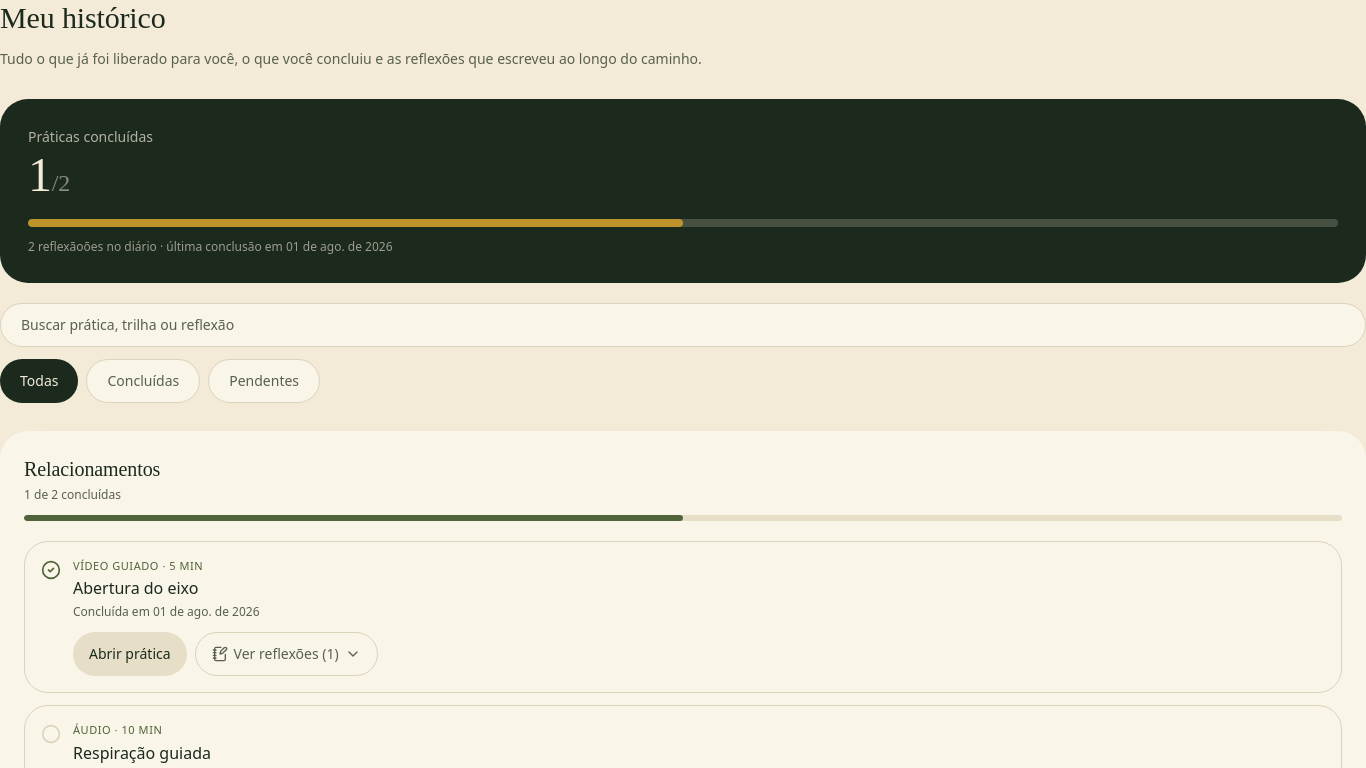
Test: histórico do cliente › filtra por estado e por busca, inclusive no texto das reflexões
This screenshot has width=1366, height=768.
Expected: the text "Abertura do eixo" is shown, top-left (73, 577), bottom-right (198, 599)
Step 1. Click the button "Concluídas" → (143, 381), box top-left (86, 359), bottom-right (200, 403)
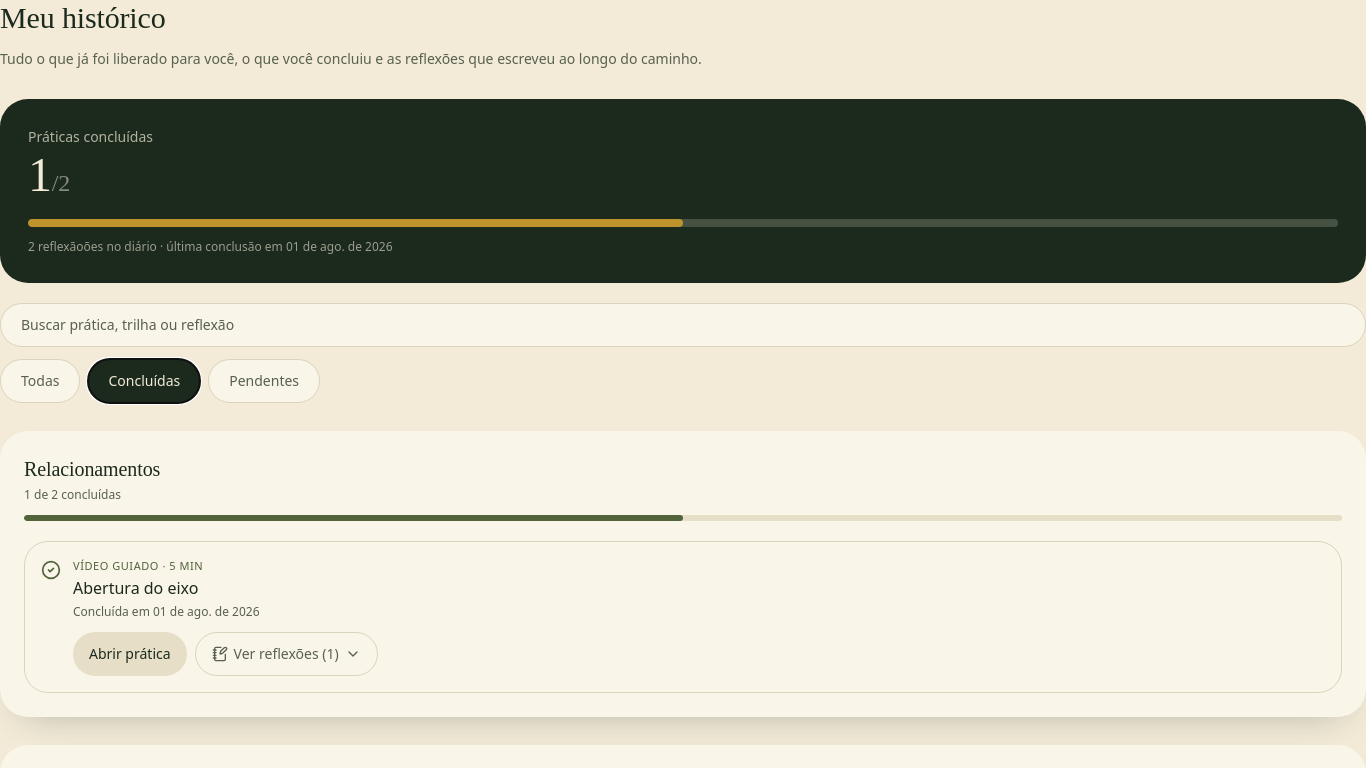
Now the text "Respiração guiada" is gone
Step 2. Click the button "Todas" → (40, 381), box top-left (0, 359), bottom-right (80, 403)
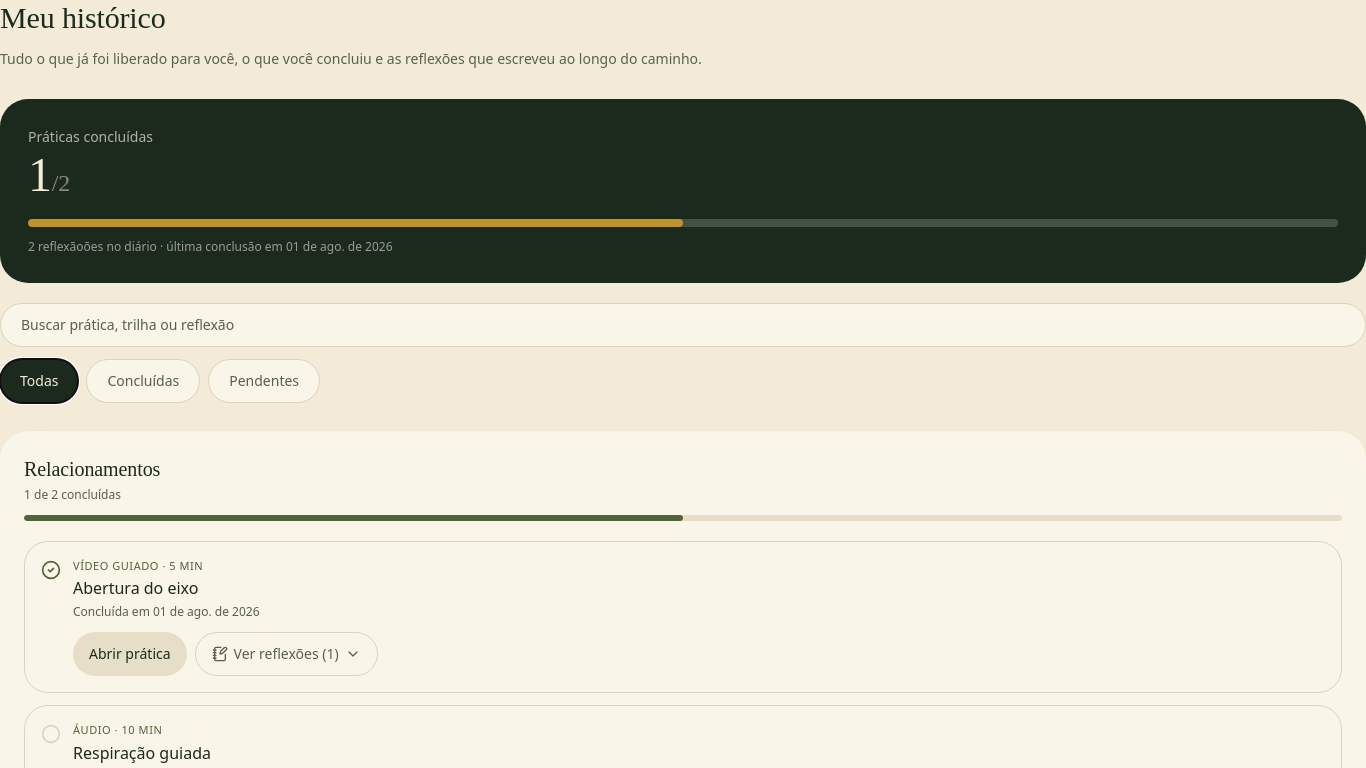
Step 3. Type "alívio" into the search field named "Buscar por prática" → (683, 325), box top-left (0, 303), bottom-right (1365, 347)
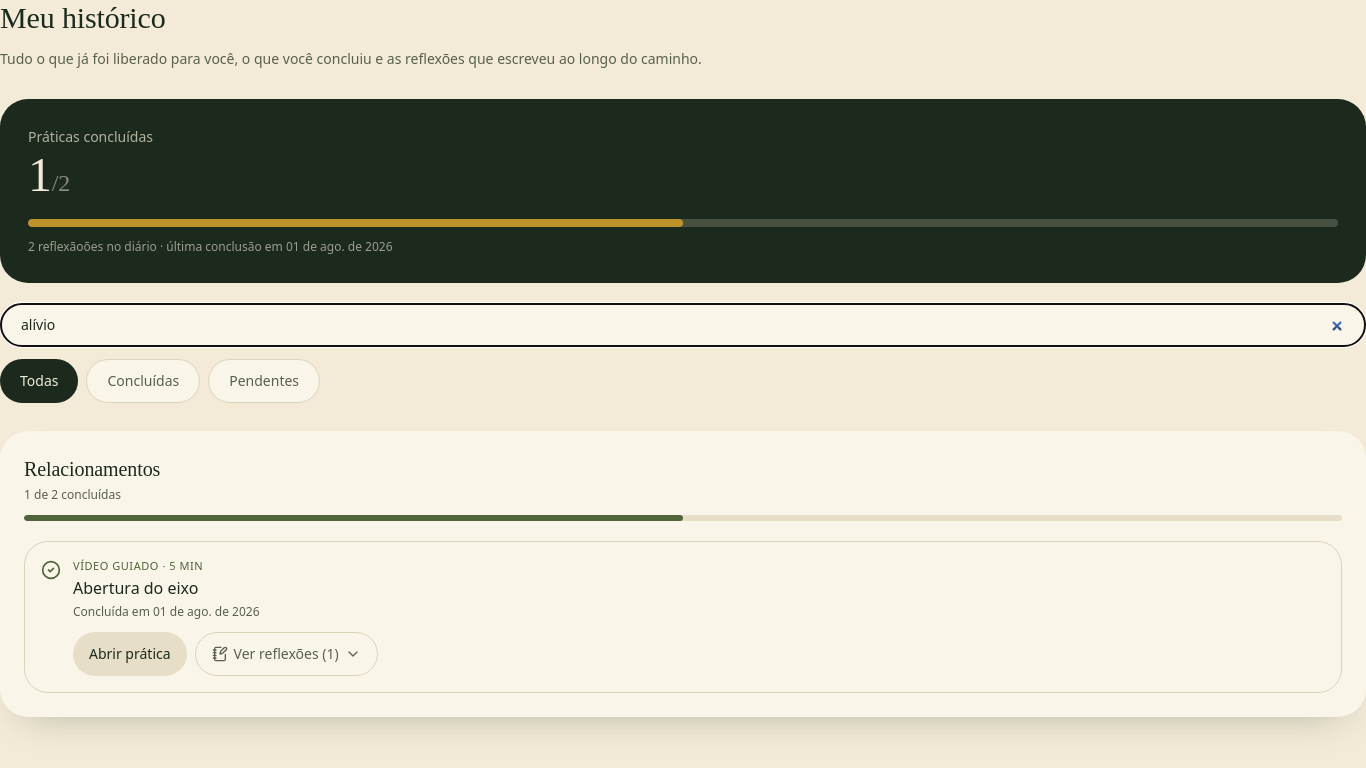
Expected: the text "Abertura do eixo" is shown, top-left (73, 577), bottom-right (198, 599)
Now the text "Respiração guiada" is gone
